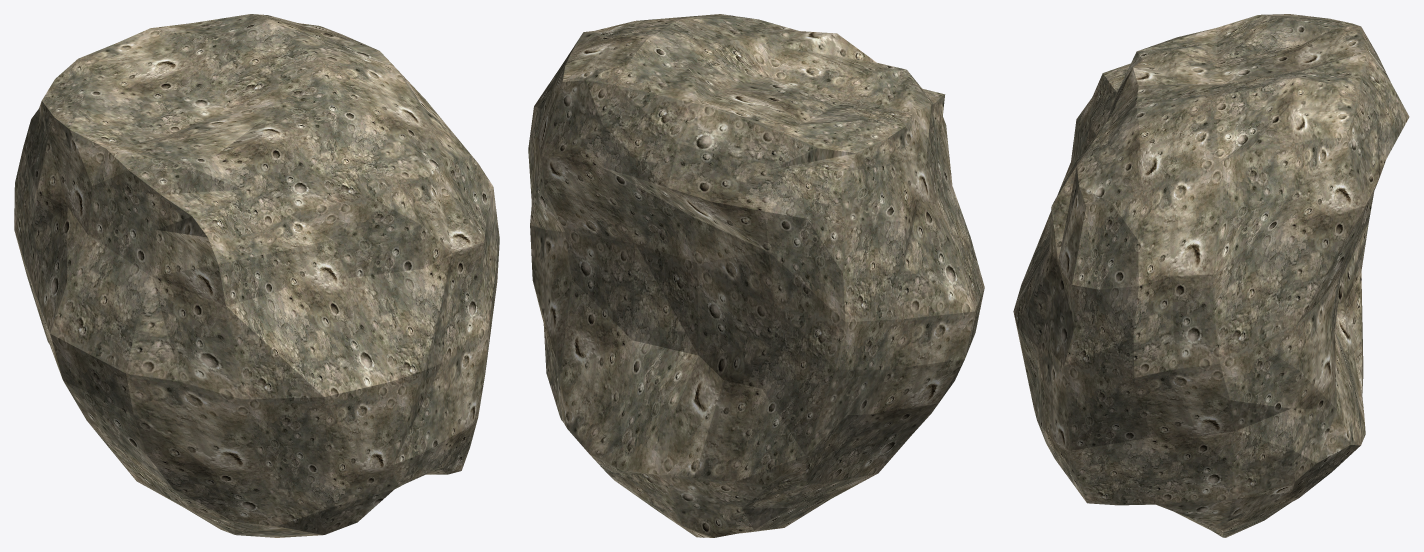
File: asteroid_all_mammoth_01_l1.fbx
3 views of the same model, side by side, from view 1: azimuth 30°, elevation 25°; view 2: azimuth 150°, elevation 25°; view 3: azimuth 270°, elevation 25° (orthographic). The views are drawn at different scales.
Visible parts, largest first — view 1: mesh_node; view 2: mesh_node; view 3: mesh_node.
Boxes of the visible parts, box(x1,y1,x2,y2) form: mesh_node: box(14, 14, 499, 537); mesh_node: box(528, 14, 984, 537); mesh_node: box(1013, 14, 1409, 537).
Bounding box in the file's own units: 303 × 337 × 257.
